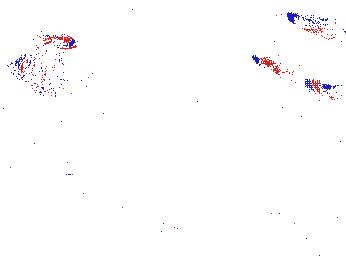X-ray fish: (4, 48, 95, 93)
red belly glassfish: (15, 24, 80, 51)
redtail glassfish: (249, 51, 318, 94), (201, 3, 277, 39), (284, 12, 346, 41)
